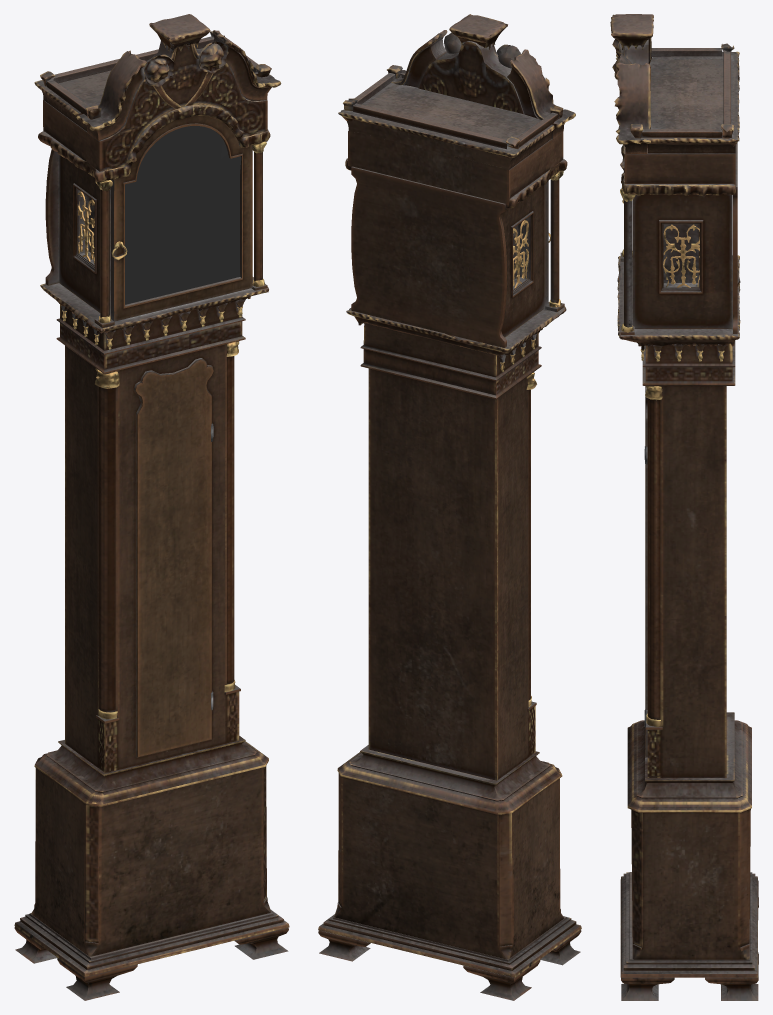
Rendered from Clock.fbx.
The picture shows the model from 3 angles, left to right: view 1: azimuth 30°, elevation 25°; view 2: azimuth 150°, elevation 25°; view 3: azimuth 270°, elevation 25°; orthographic projection. The views are drawn at different scales.
Visible parts, largest first — view 1: SM_Clock_LOD0; view 2: SM_Clock_LOD0; view 3: SM_Clock_LOD0.
Part boxes in pixels (x1,y1,x2,y2): SM_Clock_LOD0: [14, 14, 289, 1000]; SM_Clock_LOD0: [318, 14, 581, 1000]; SM_Clock_LOD0: [610, 14, 758, 1000].
Bounding box in the file's own units: 73.24 × 323 × 46.91.
